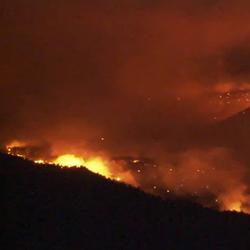fire: (58, 154, 108, 174)
